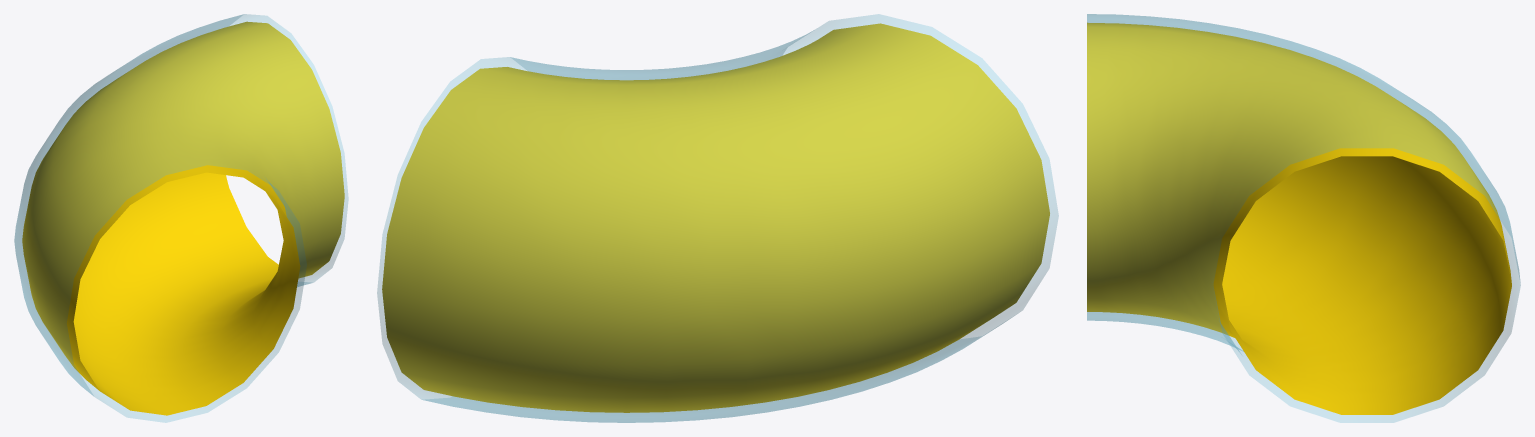
File: 冷冻回-弯头.glb
3 views of the same model, side by side, from view 1: azimuth 30°, elevation 25°; view 2: azimuth 150°, elevation 25°; view 3: azimuth 270°, elevation 25° (orthographic). The views are drawn at different scales.
Parts seen in each view (by area): view 1: 贴图, Box001; view 2: Box001, 贴图; view 3: 贴图, Box001.
Part boxes in pixels (x1,y1,x2,y2): 贴图: [22, 21, 344, 415]; Box001: [14, 14, 348, 422]; Box001: [377, 14, 1058, 422]; 贴图: [382, 23, 1049, 412]; 贴图: [1087, 22, 1511, 414]; Box001: [1087, 14, 1520, 422].
Bounding box in the file's own units: 4.93 × 3.45 × 4.93.
